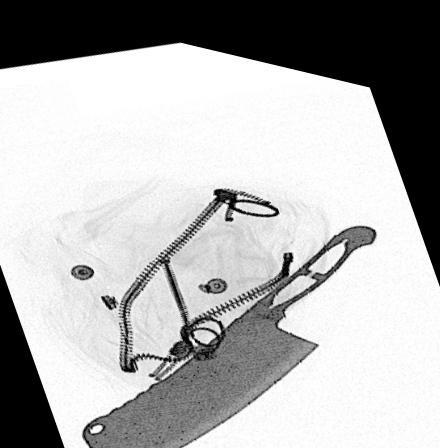Knife: (81, 207, 378, 448)
